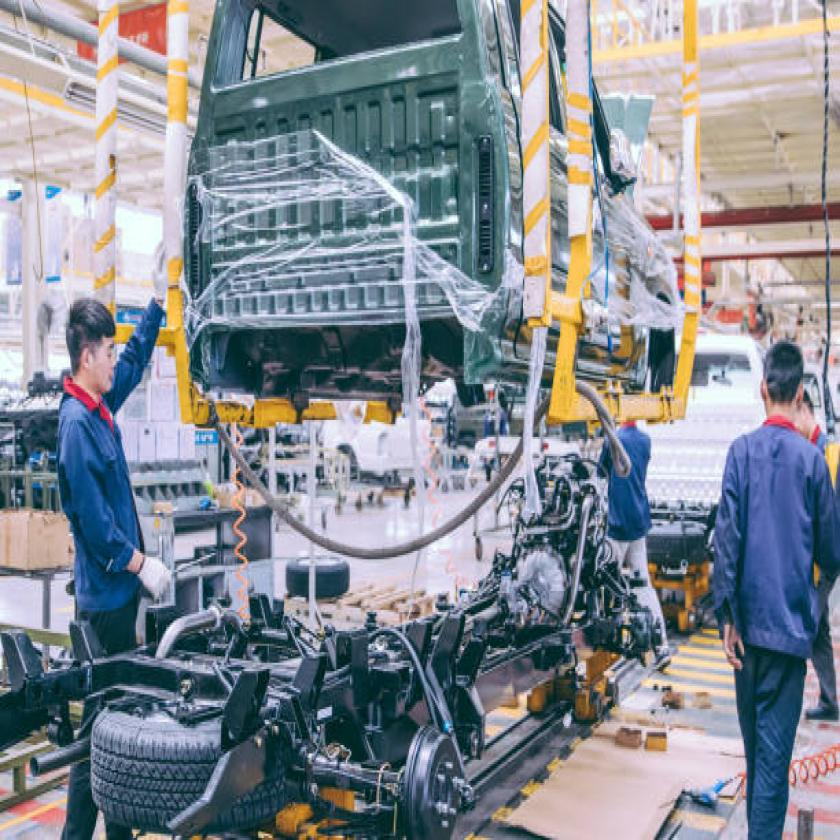Sin_casco: (39, 267, 133, 420), (752, 323, 814, 435)
